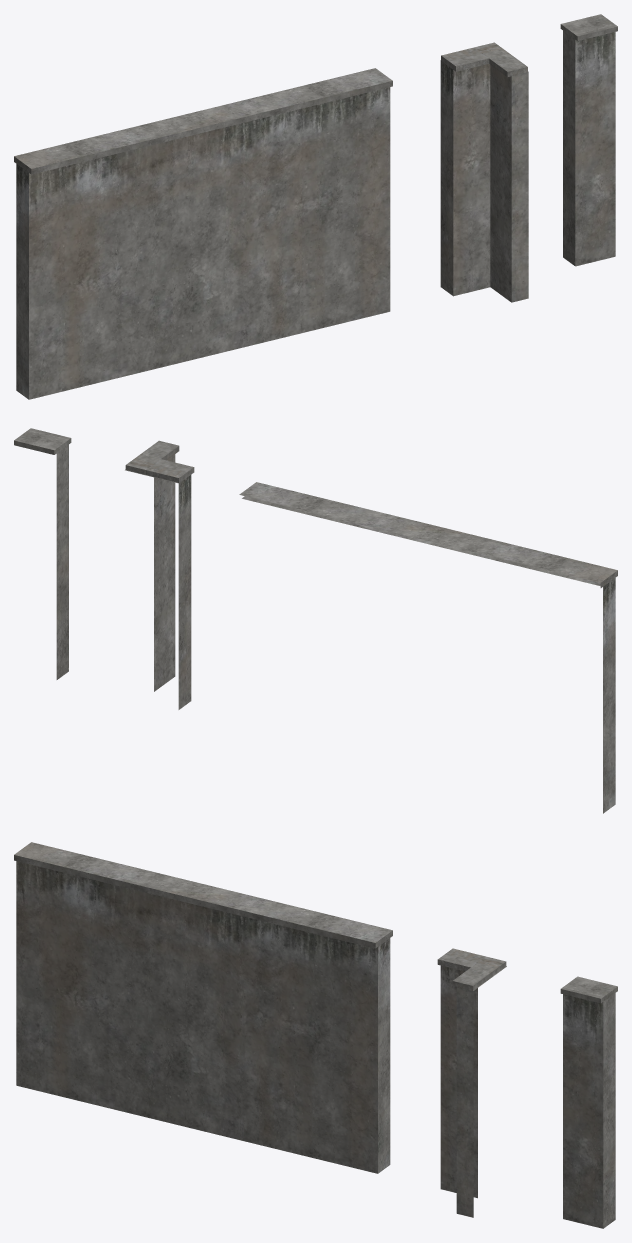
File: wall.glb
3 renders of one model, top to bottom at view 1: azimuth 30°, elevation 25°; view 2: azimuth 150°, elevation 25°; view 3: azimuth 330°, elevation 25°, orthographic.
Parts seen in each view (by area): view 1: Cube; view 2: Cube; view 3: Cube.
Boxes of the visible parts, left/top/right/bottom form: Cube: left=14, top=14, right=617, bottom=399; Cube: left=14, top=428, right=617, bottom=813; Cube: left=14, top=842, right=617, bottom=1228.
Size of the model in its own units: 812 by 307 by 86.71.
1 material, 1 textured.
